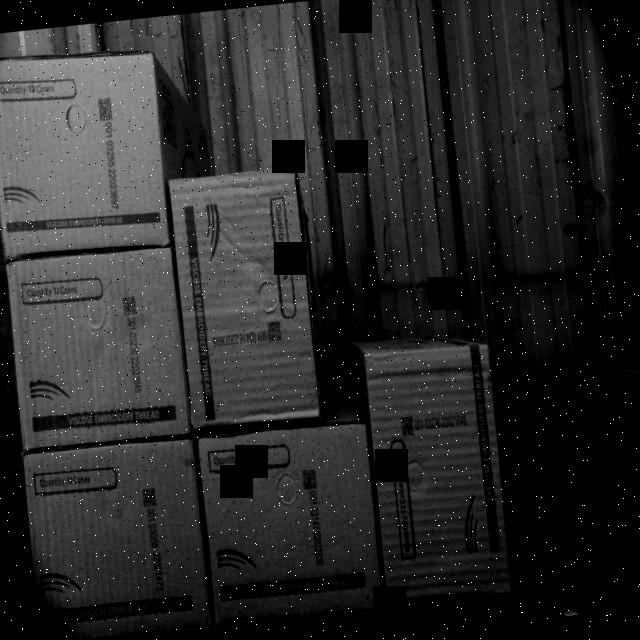box: (165, 165, 321, 429), (360, 342, 512, 608), (20, 434, 213, 640), (4, 246, 191, 452), (198, 420, 383, 622), (0, 45, 170, 258)
